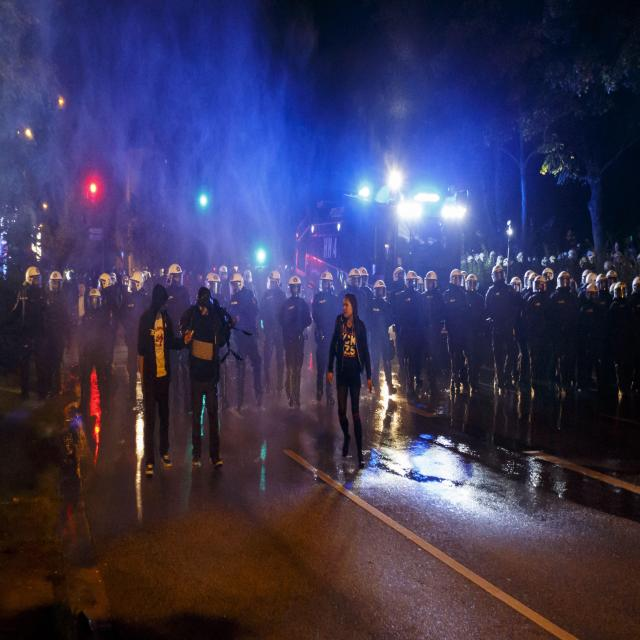body: (506, 268, 640, 436), (138, 284, 194, 476), (179, 285, 231, 469), (66, 264, 259, 310), (327, 291, 372, 471), (7, 266, 49, 403), (224, 272, 264, 414), (450, 241, 640, 269), (77, 288, 113, 432), (279, 274, 313, 408), (310, 270, 342, 410), (165, 263, 192, 423), (485, 265, 519, 392), (258, 268, 290, 401), (337, 268, 371, 387), (365, 278, 398, 399), (121, 271, 151, 403), (441, 268, 468, 396), (397, 270, 422, 399), (44, 270, 66, 395), (75, 280, 90, 382), (420, 271, 444, 334), (389, 266, 408, 324), (204, 272, 226, 308), (357, 267, 373, 299), (412, 273, 426, 300), (458, 269, 470, 296)
